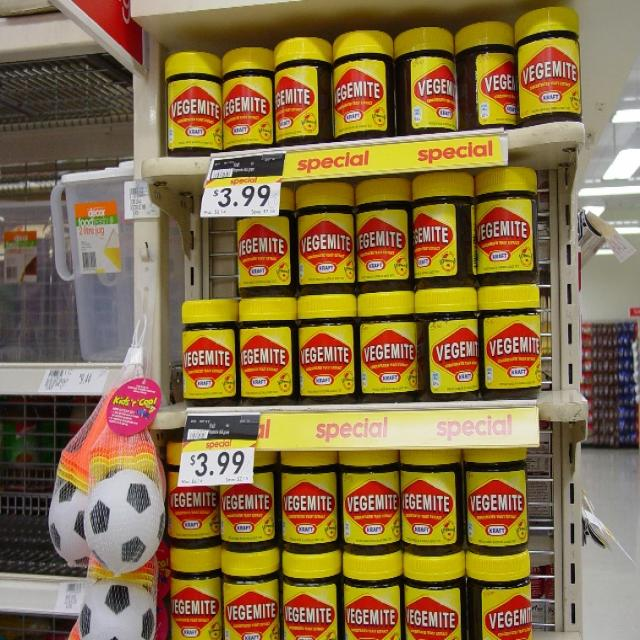q299: (36, 323, 169, 588), (61, 557, 161, 640)
